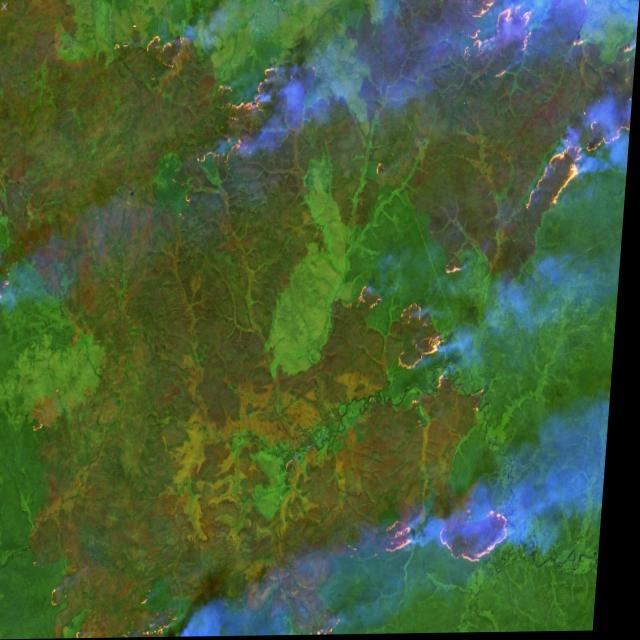fire: (436, 0, 640, 230), (114, 24, 320, 184), (344, 254, 475, 381), (375, 489, 524, 576), (0, 243, 34, 334)
